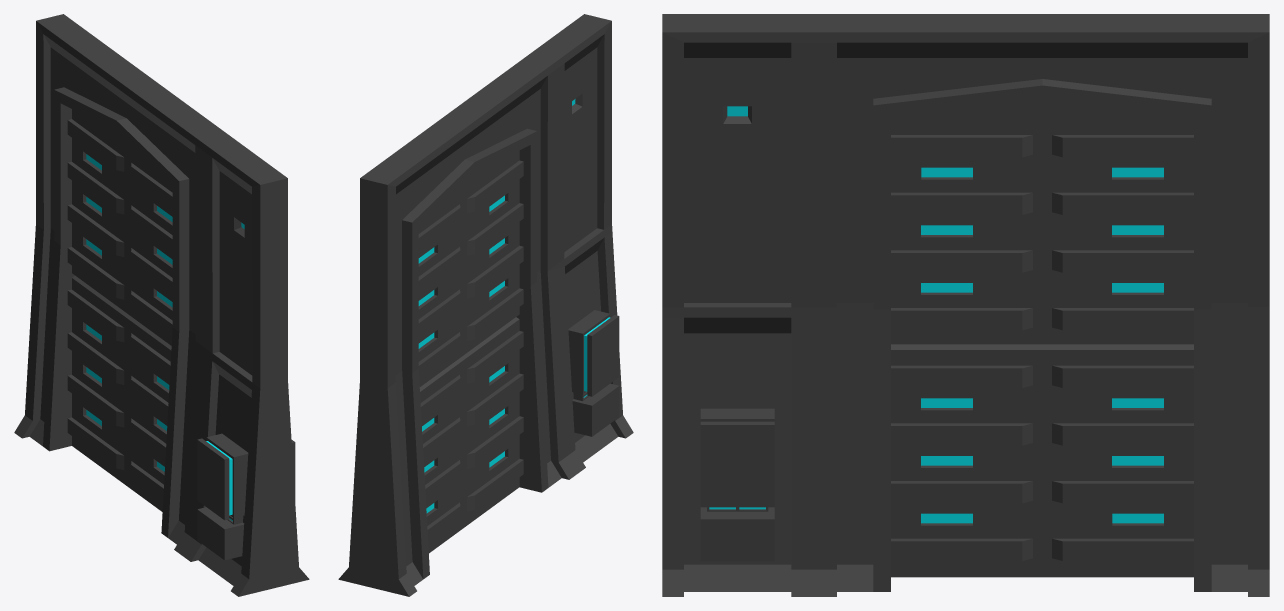
The model's file is Modular wall deco Gate.fbx.
3 renders of one model, left to right at view 1: azimuth 30°, elevation 25°; view 2: azimuth 150°, elevation 25°; view 3: azimuth 270°, elevation 25°, orthographic. The views are drawn at different scales.
Parts seen in each view (by area): view 1: Modular Wall deco Gate; view 2: Modular Wall deco Gate; view 3: Modular Wall deco Gate.
Boxes of the visible parts, <box> form: Modular Wall deco Gate: <box>14,14,309,596</box>; Modular Wall deco Gate: <box>338,14,633,596</box>; Modular Wall deco Gate: <box>662,14,1269,596</box>.
Bounding box in the file's own units: 73.43 × 400 × 400.
